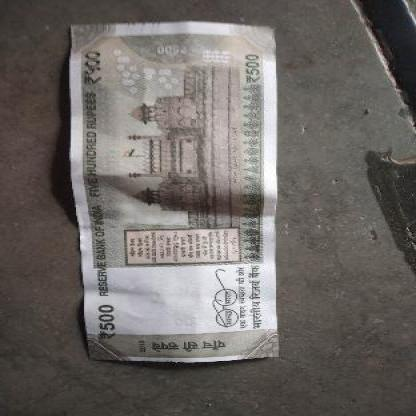New500Back: (70, 25, 276, 359)
